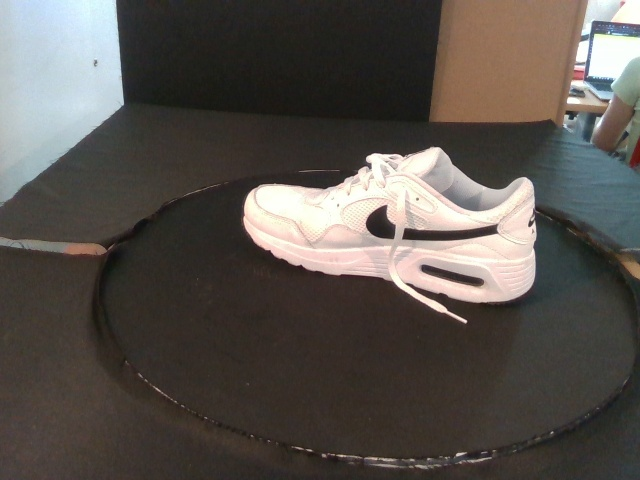shoe: (242, 146, 538, 305)
